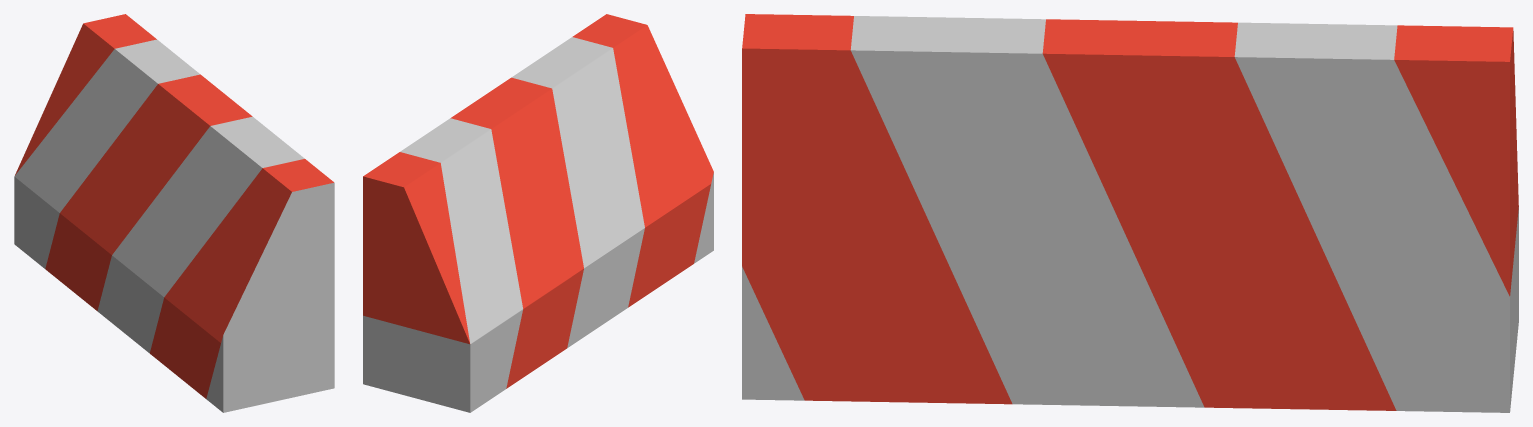
Rendered from Barrier.fbx.
3 views of the same model, side by side, from view 1: azimuth 30°, elevation 25°; view 2: azimuth 150°, elevation 25°; view 3: azimuth 270°, elevation 25° (orthographic). The views are drawn at different scales.
Parts seen in each view (by area): view 1: Cube.009; view 2: Cube.009; view 3: Cube.009.
Part boxes in pixels (x1,y1,x2,y2): Cube.009: [14, 14, 334, 412]; Cube.009: [363, 14, 713, 412]; Cube.009: [742, 14, 1518, 412].
Size of the model in its own units: 45.85 by 72.22 by 145.
